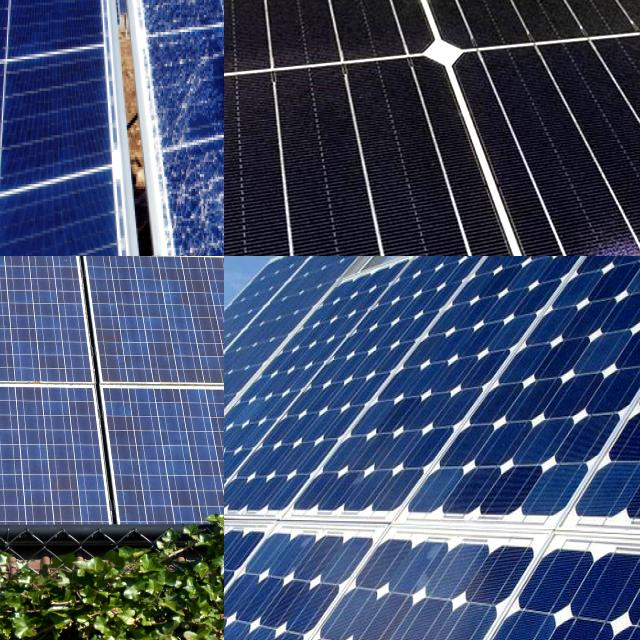crack: (270, 256, 640, 613), (224, 60, 622, 256), (414, 22, 640, 256), (224, 256, 408, 505), (358, 0, 640, 108), (317, 546, 640, 640), (224, 0, 466, 117), (0, 377, 137, 548), (92, 383, 224, 555), (65, 256, 224, 395), (334, 0, 616, 69), (0, 256, 102, 381), (224, 0, 401, 72), (51, 256, 224, 325), (0, 380, 72, 543), (0, 256, 70, 400), (516, 0, 640, 70), (0, 256, 97, 323)
